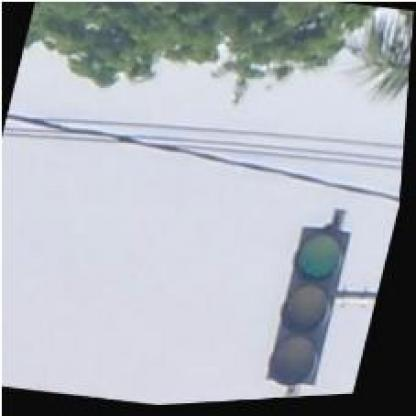green: (266, 225, 356, 394)
